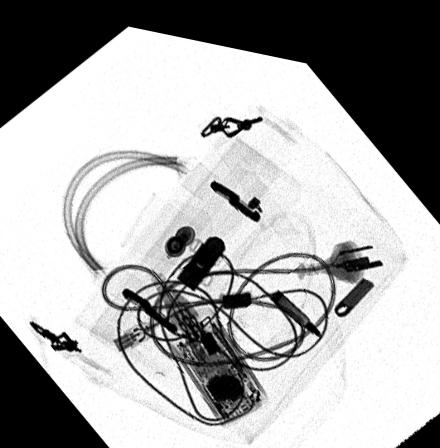Bullet: (268, 275, 325, 324)
